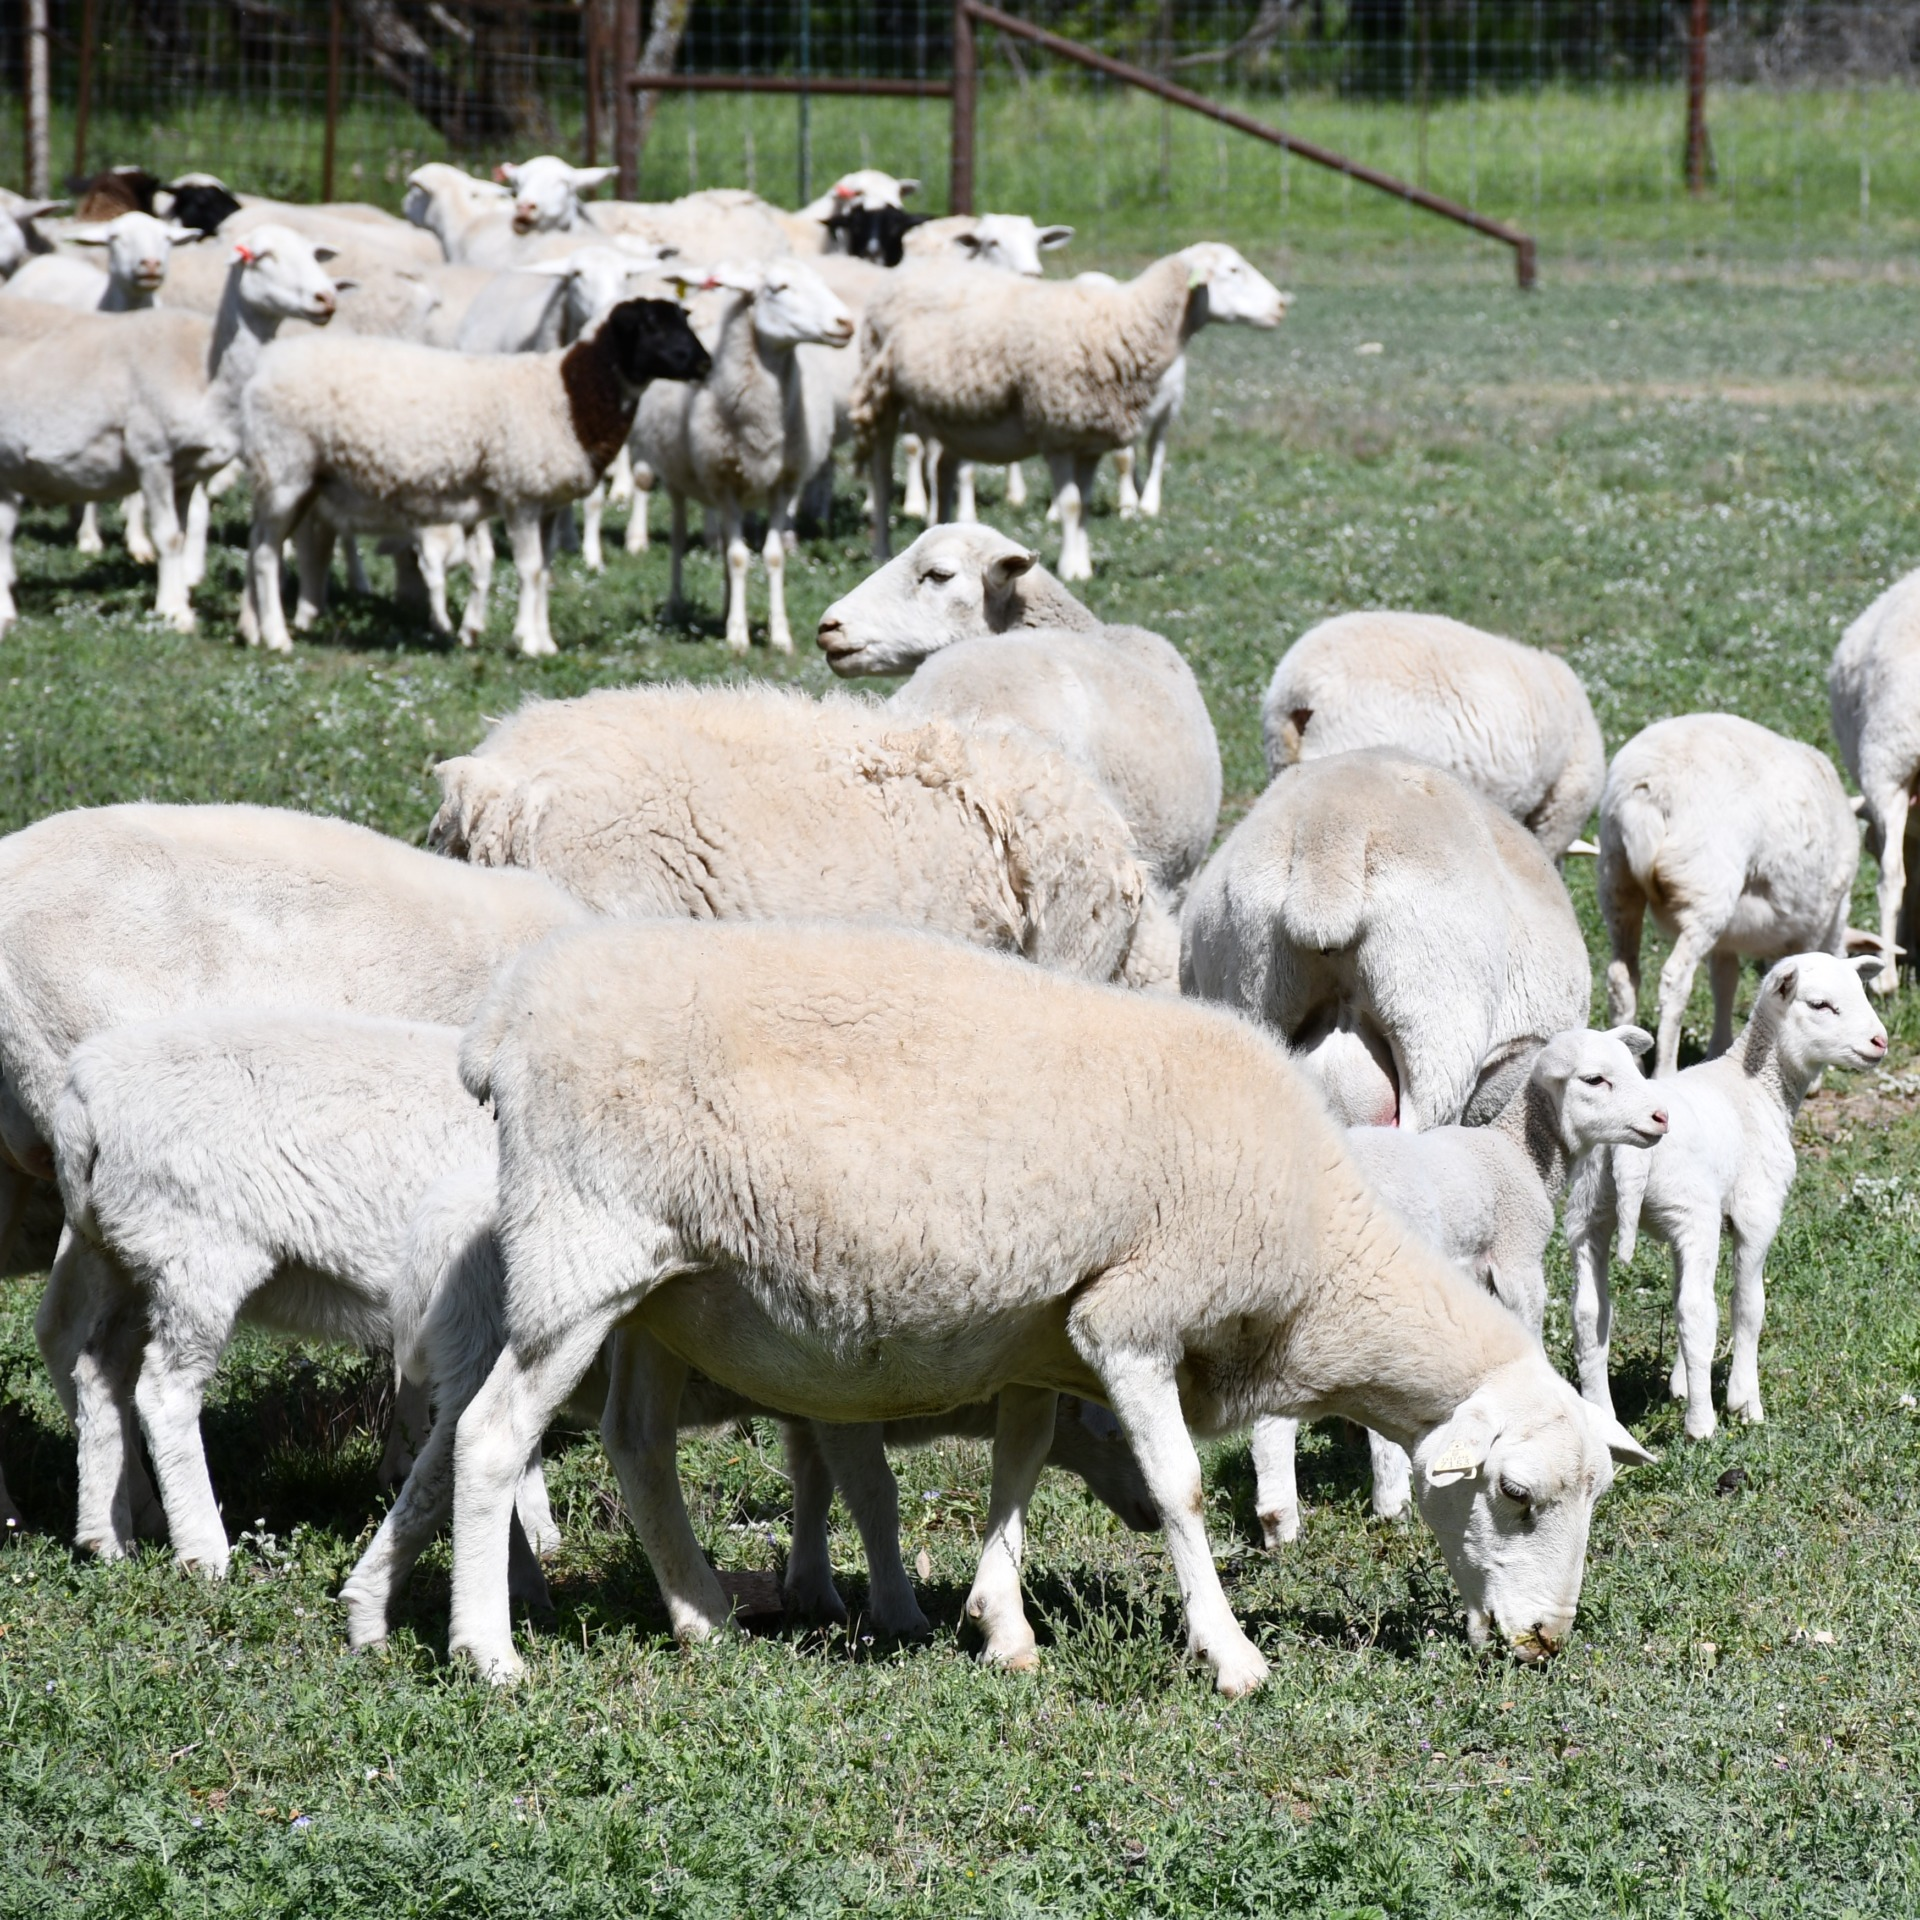koyun: (345, 1210, 1611, 1674), (1655, 942, 1920, 1452), (920, 253, 1276, 520), (805, 519, 1225, 733), (229, 236, 346, 339)
